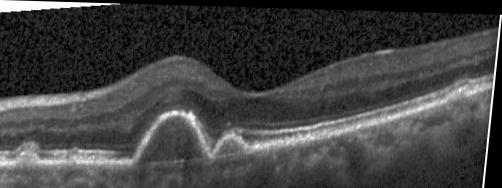retinal_drusen: (141, 112, 211, 163), (450, 79, 492, 97), (218, 136, 248, 155), (21, 151, 42, 164), (71, 152, 86, 163)
